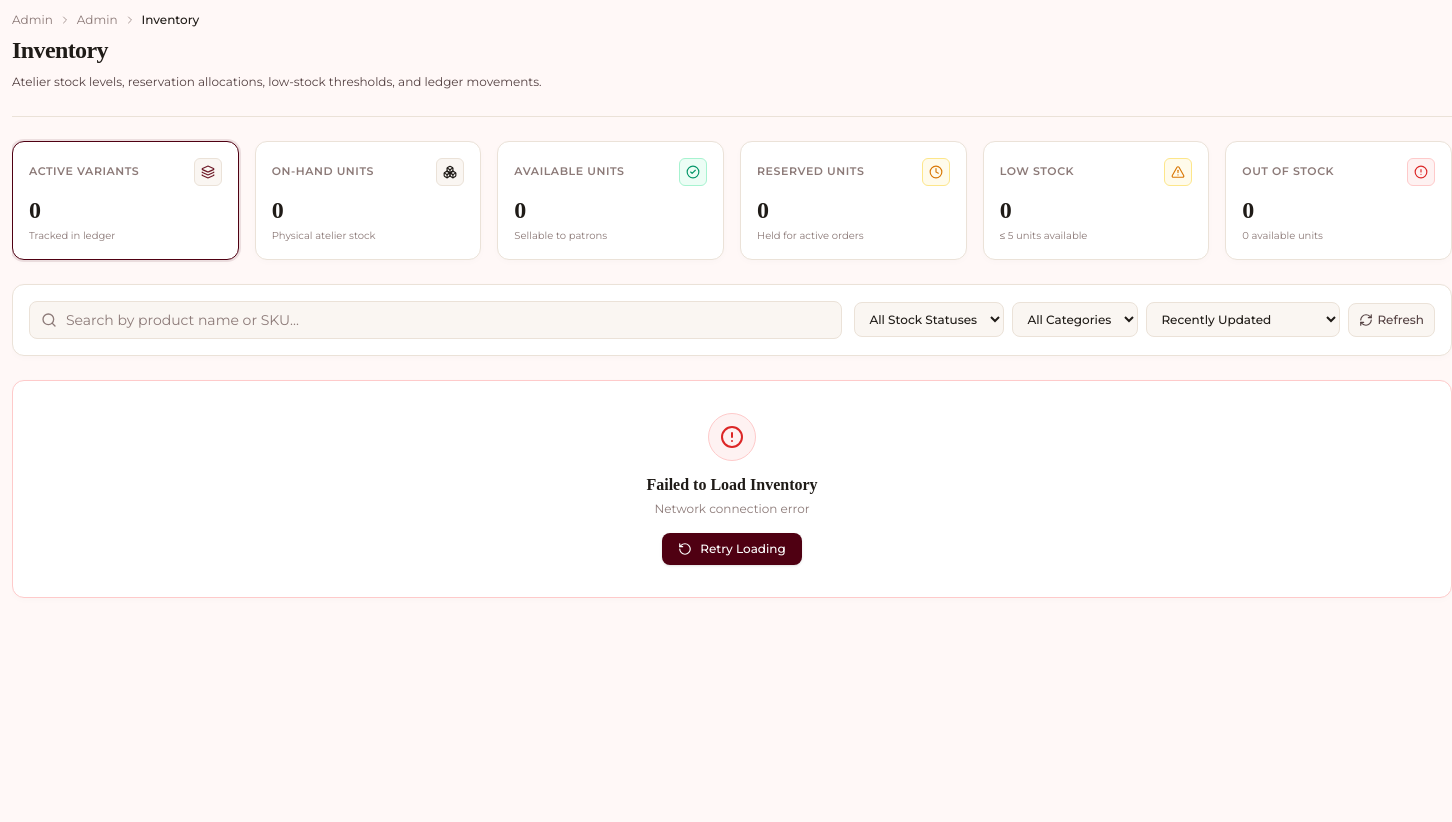
Test case: AdminInventoryClient Component › displays error state and retries successfully
expect the heading "Failed to Load Inventory" is shown: met, box 646,476 -> 818,492
expect the text "Network connection error" is shown: met, box 654,500 -> 810,516
What coordinates should you click on to do the following:
click the button "Retry Loading"
I would click on:
 (732, 548)
Its box is 662,532 -> 802,564.
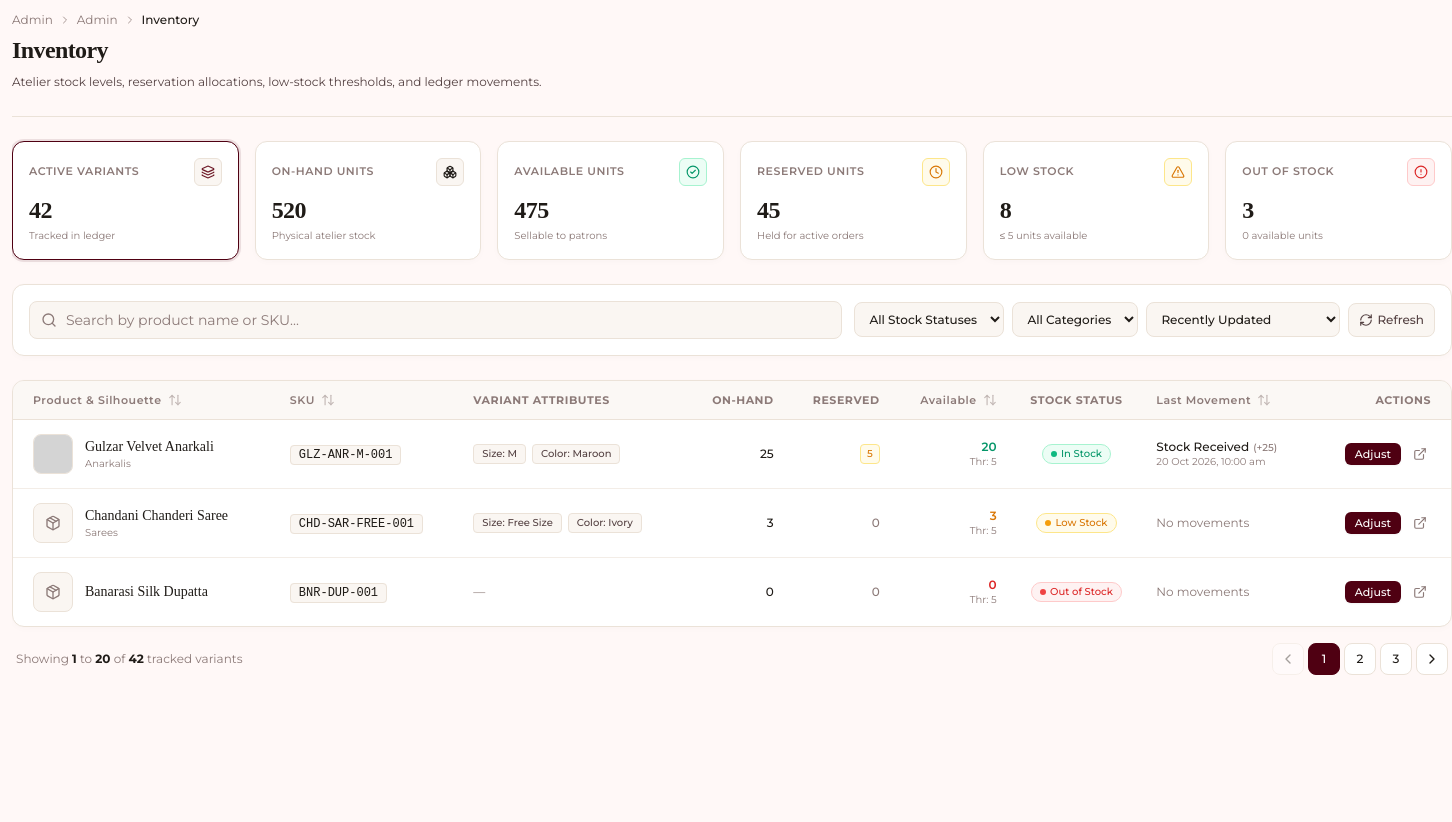
expect the link "Gulzar Velvet Anarkali" is shown: met, box 85,438 -> 214,458
